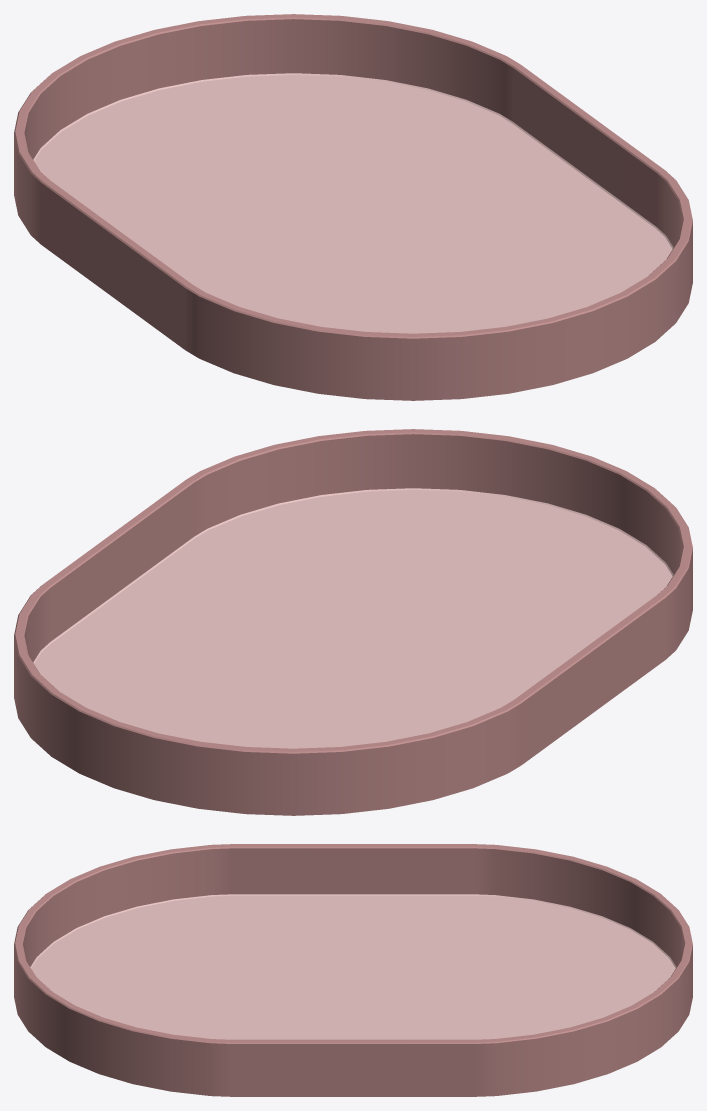
File: oval.fbx
3 renders of one model, top to bottom at view 1: azimuth 30°, elevation 25°; view 2: azimuth 150°, elevation 25°; view 3: azimuth 270°, elevation 25°, orthographic. The views are drawn at different scales.
Parts seen in each view (by area): view 1: Table_Oval; view 2: Table_Oval; view 3: Table_Oval.
Part boxes in pixels (x1,y1,x2,y2): Table_Oval: (14, 14, 692, 400); Table_Oval: (14, 429, 692, 815); Table_Oval: (14, 844, 692, 1096).
Bounding box in the file's own units: 7.94 × 1 × 11.43.
